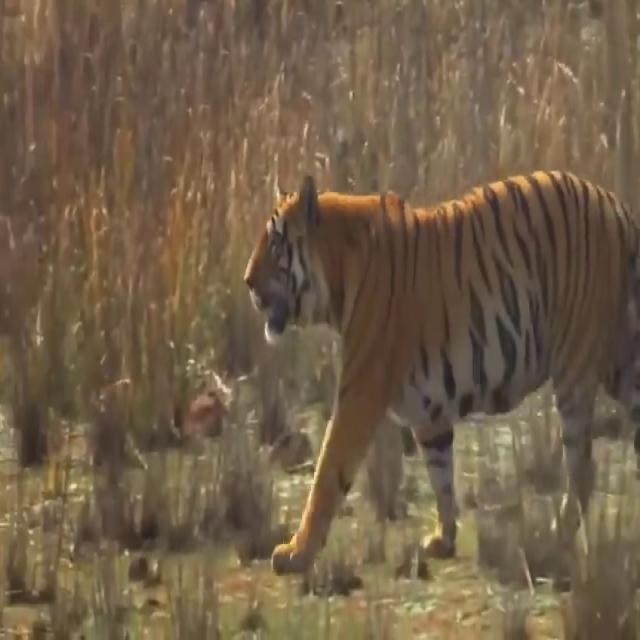tiger: (242, 168, 638, 572)
